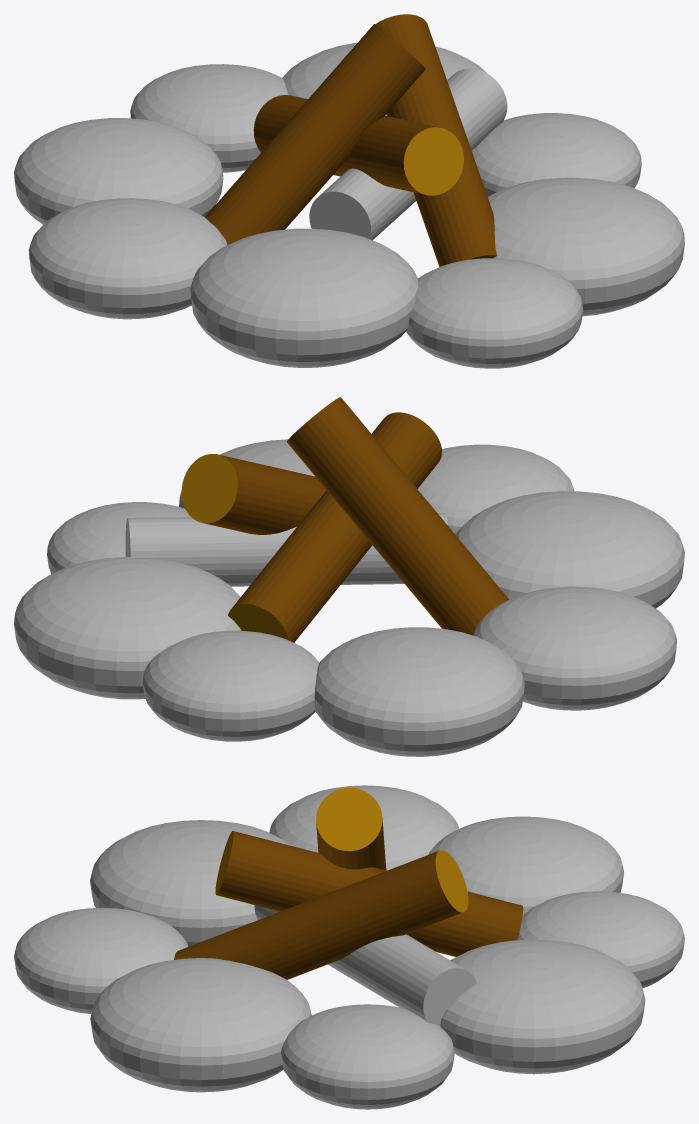
File: Campfire.fbx
3 renders of one model, top to bottom at view 1: azimuth 30°, elevation 25°; view 2: azimuth 150°, elevation 25°; view 3: azimuth 270°, elevation 25°, orthographic. The views are drawn at different scales.
Parts seen in each view (by area): view 1: Sphere; view 2: Sphere; view 3: Sphere.
Boxes of the visible parts, bbox=[...] form: Sphere: bbox=[14, 14, 684, 368]; Sphere: bbox=[14, 397, 684, 756]; Sphere: bbox=[14, 785, 684, 1109].
Bounding box in the file's own units: 156 × 60.76 × 159.
